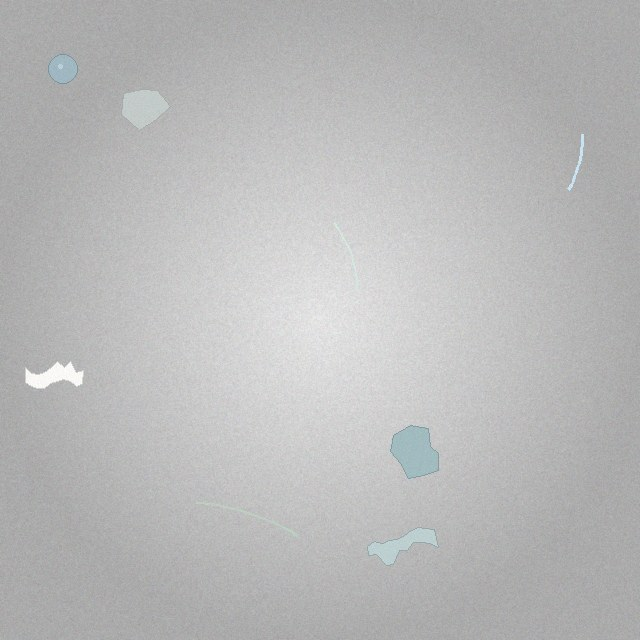fiber: (194, 499, 300, 538), (331, 220, 359, 295), (566, 132, 585, 193)
film: (367, 528, 438, 565), (25, 361, 83, 388)
fragment: (390, 426, 438, 478), (121, 89, 171, 130)
pellet: (48, 55, 78, 84)
